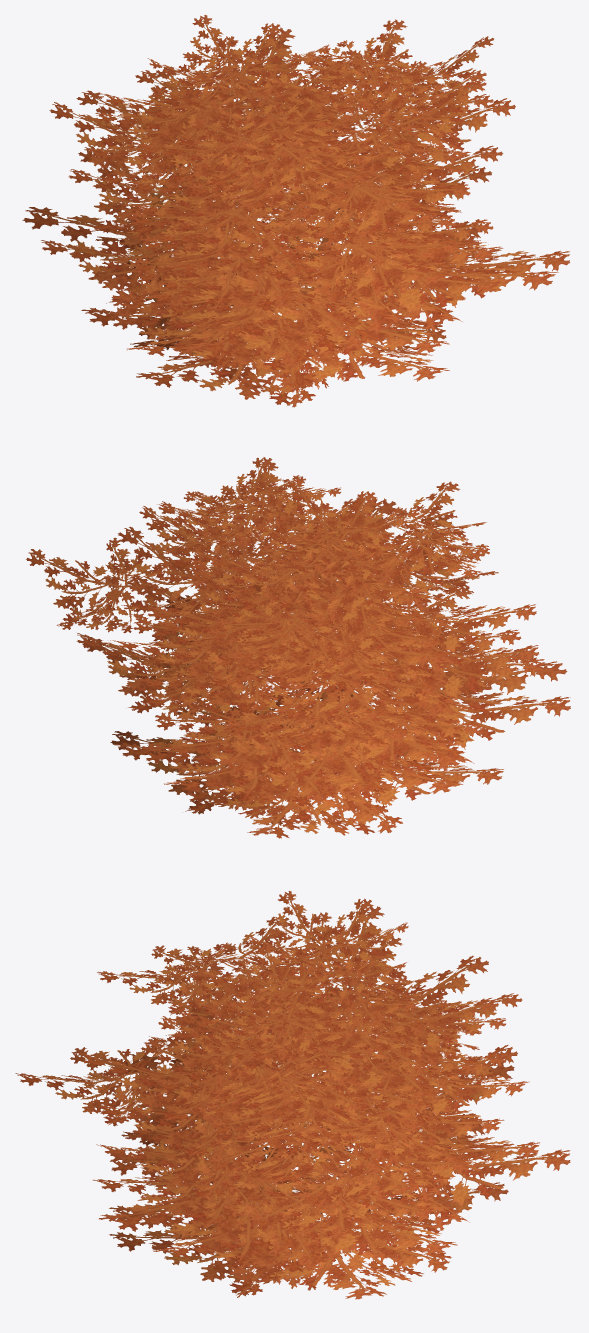
3 renders of one model, top to bottom at view 1: azimuth 30°, elevation 25°; view 2: azimuth 150°, elevation 25°; view 3: azimuth 270°, elevation 25°, orthographic. The views are drawn at different scales.
Visible parts, largest first — view 1: body0_model0_lod0_mesh0; view 2: body0_model0_lod0_mesh0; view 3: body0_model0_lod0_mesh0.
Boxes of the visible parts, left/top/right/bottom form: body0_model0_lod0_mesh0: left=22, top=15, right=569, bottom=407; body0_model0_lod0_mesh0: left=26, top=457, right=570, bottom=838; body0_model0_lod0_mesh0: left=15, top=891, right=570, bottom=1299.
Bounding box in the file's own units: 705 × 455 × 717.
1 material, 1 textured.
